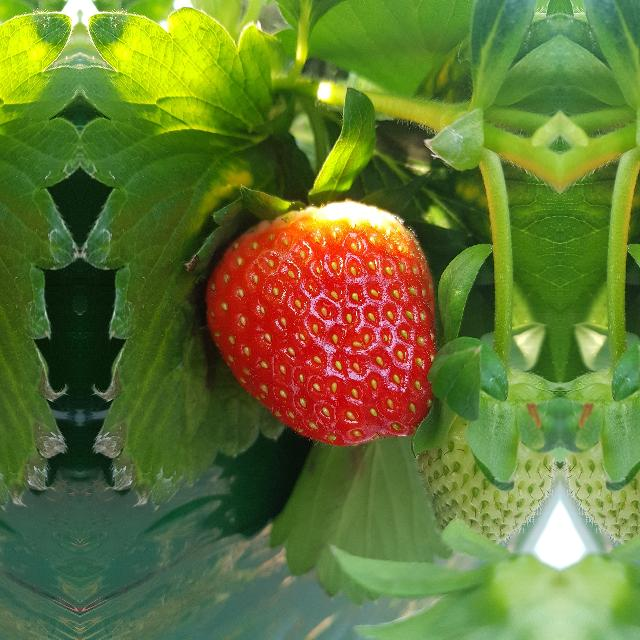Health_100: (204, 199, 436, 447)
Health_25: (418, 408, 554, 546), (566, 407, 640, 546)
